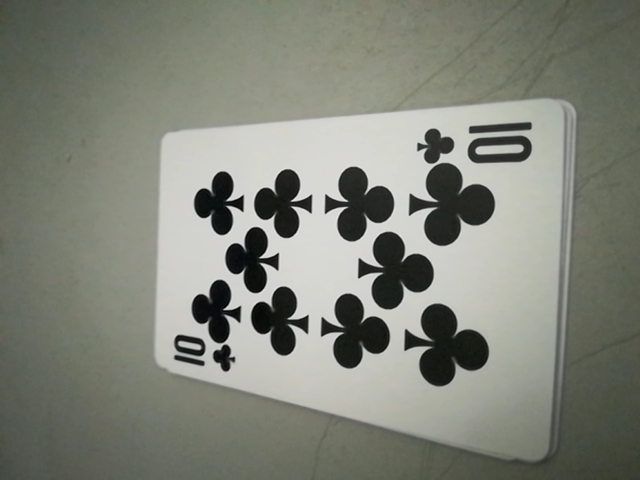mh 10: (418, 116, 542, 168), (165, 335, 240, 380)
